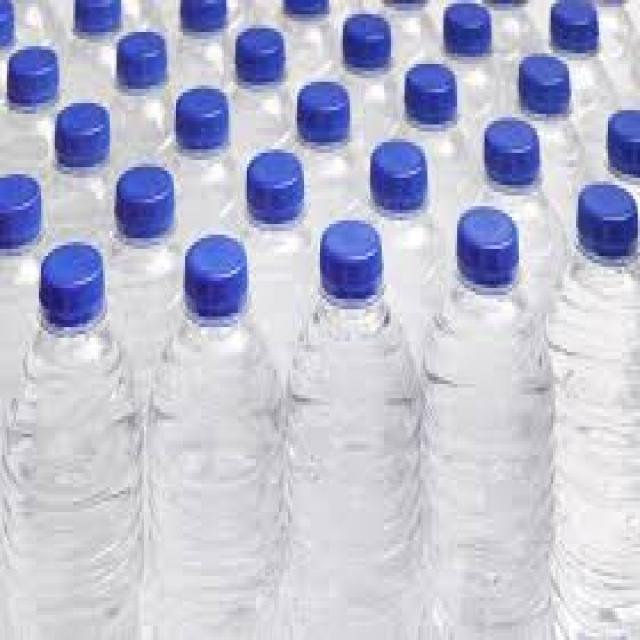Plastic: (284, 216, 422, 637), (422, 204, 555, 640), (148, 235, 284, 640), (7, 242, 142, 640), (542, 181, 640, 640)
